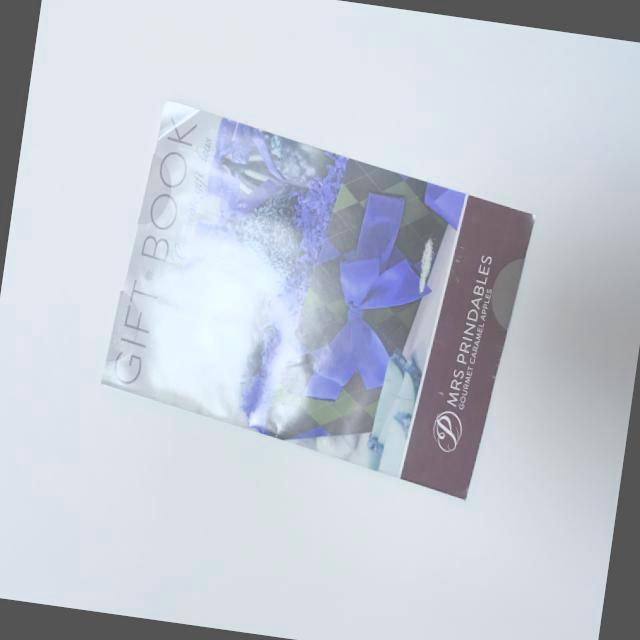paper: (61, 72, 568, 530)
